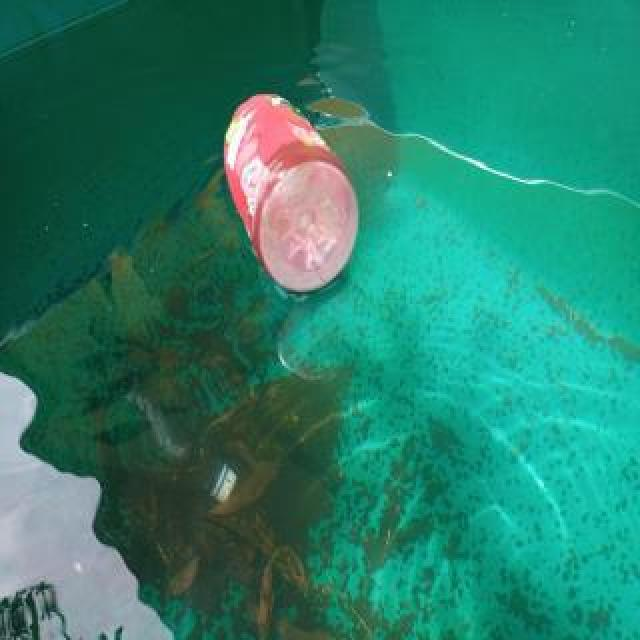bottle: (223, 87, 361, 295)
